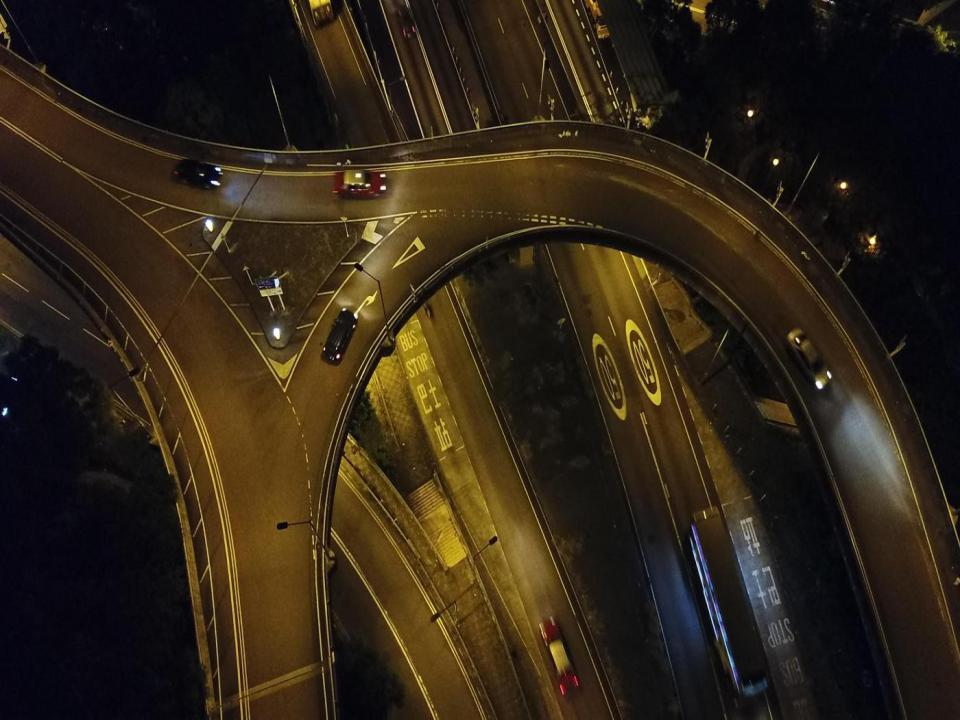bus: (684, 513, 774, 711)
car: (785, 326, 833, 392), (540, 618, 580, 696), (322, 308, 358, 362), (174, 159, 222, 190), (333, 169, 386, 197), (396, 4, 416, 39)
